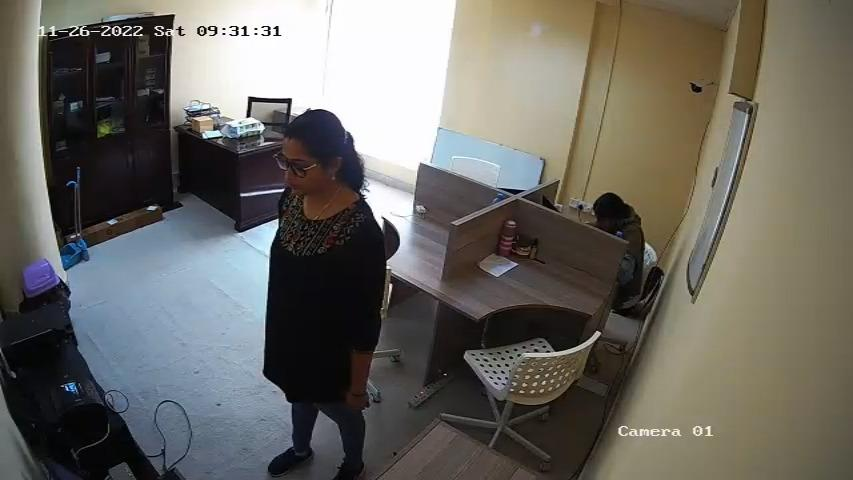no_apron: (273, 218, 356, 377)
